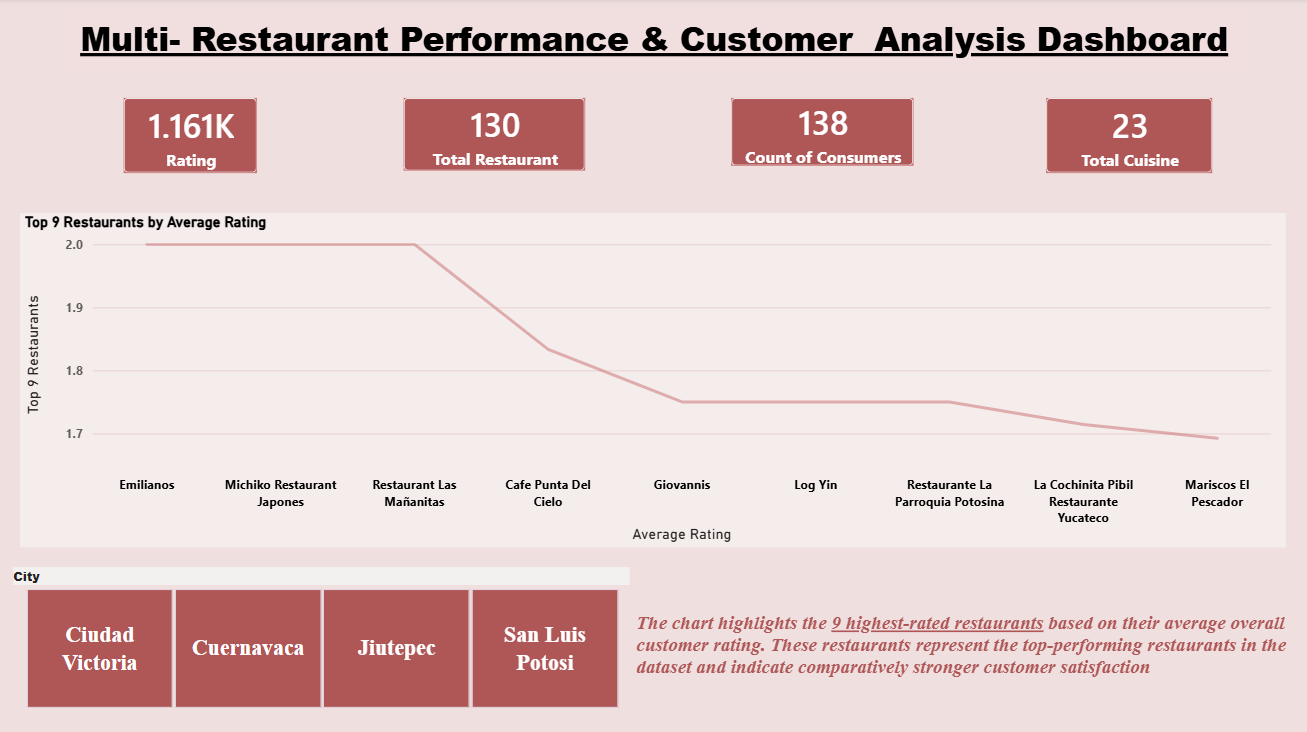

This screenshot's page, from the dashboard's own definition file:
{"tool":"powerbi","page":{"name":"Page 1","canvas":[1280,720],"ordinal":0},"visuals":[{"type":"cardVisual","fields":{"Data":["Count(restaurant_cuisines.Cuisine)"]},"box":[1018.8,92.5,172.5,83.8],"z":0},{"type":"textbox","box":[58.8,12.5,1162.5,61.2],"z":1000},{"type":"cardVisual","fields":{"Data":["CountNonNull(restaurants.Name)"]},"box":[390,92.5,187.5,81.2],"z":2000},{"type":"lineChart","fields":{"Category":["restaurants.Name"],"Y":["consumer_preferences.average rating"]},"box":[20,210,1238.8,327.5],"z":3000},{"type":"cardVisual","fields":{"Data":["Count(ratings.Consumer_ID)"]},"box":[710,92.5,188.8,76.2],"z":4000},{"type":"slicer","fields":{"Values":["restaurants.City"]},"box":[0,552.5,628.8,148.8],"z":5000},{"type":"cardVisual","fields":{"Data":["CountNonNull(ratings.Overall_Rating)"]},"box":[116.2,92.5,140,83.8],"z":6000},{"type":"textbox","box":[617.5,595,662.5,125],"z":7000}]}

Visuals, with their boxes in screenshot pixels (x1, y1, x2, y2), scaled from the page's 1280x720 canvas onto the 1307x732 screenshot:
cardVisual - Count(restaurant_cuisines.Cuisine): select_region(1040, 94, 1216, 179)
textbox: select_region(60, 13, 1247, 75)
cardVisual - CountNonNull(restaurants.Name): select_region(398, 94, 590, 177)
lineChart - restaurants.Name x consumer_preferences.average rating: select_region(20, 214, 1285, 546)
cardVisual - Count(ratings.Consumer_ID): select_region(725, 94, 918, 172)
slicer - restaurants.City: select_region(0, 562, 642, 713)
cardVisual - CountNonNull(ratings.Overall_Rating): select_region(119, 94, 262, 179)
textbox: select_region(631, 605, 1306, 731)
